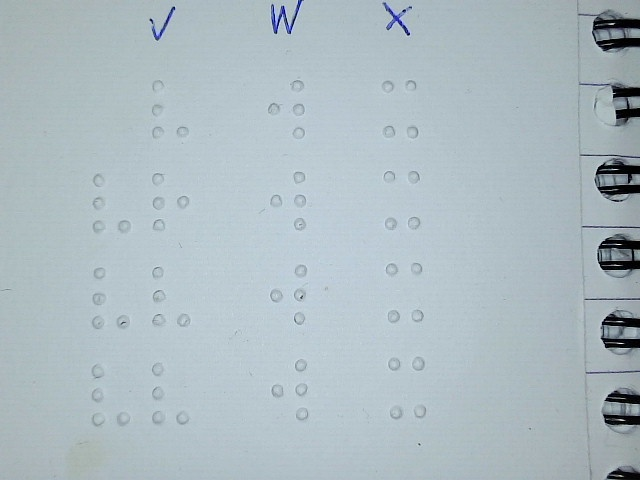V: (150, 264, 191, 328), (90, 362, 131, 426), (150, 360, 191, 424), (150, 77, 191, 140), (91, 171, 132, 234)
W: (266, 77, 307, 140), (268, 168, 309, 231), (268, 262, 309, 325), (269, 357, 310, 420)
X: (387, 354, 427, 421), (379, 77, 420, 140), (382, 168, 423, 231), (384, 260, 425, 323)
